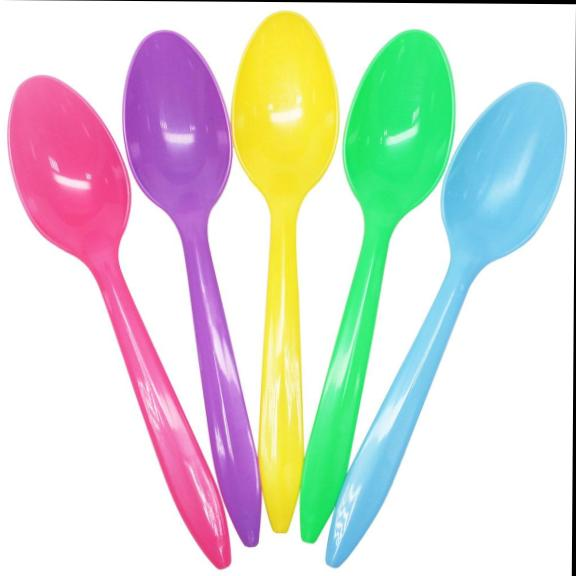Plastik: (327, 84, 565, 567), (9, 77, 230, 568), (300, 31, 454, 541), (124, 31, 260, 546), (232, 12, 338, 531)
